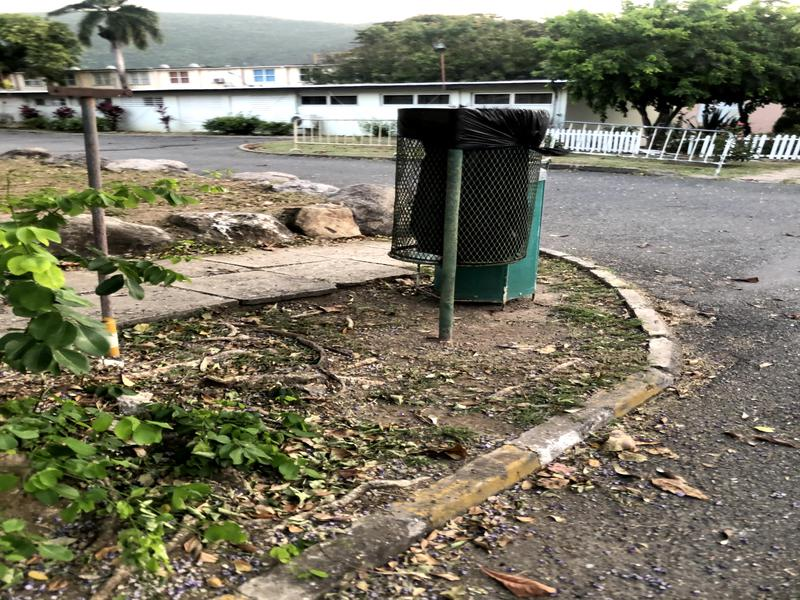18.0053245_-76.7486424_recyclebin: (434, 160, 553, 314)
